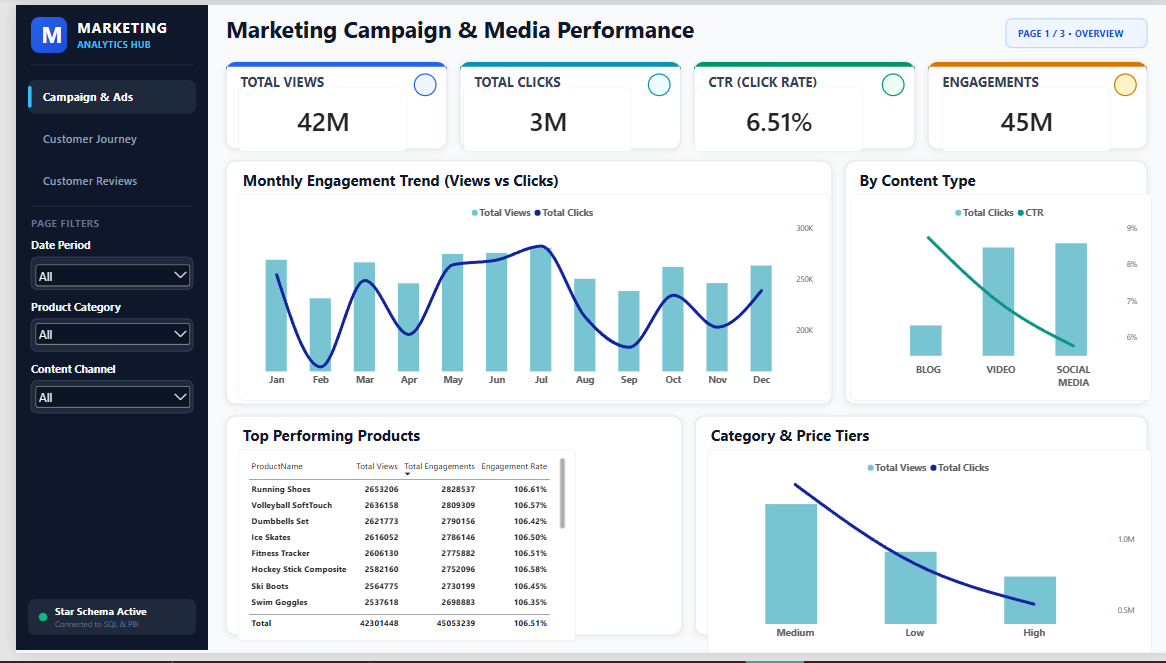

What the dashboard file says about the page in this screenshot:
{"tool":"powerbi","page":{"name":"Campaign & Ads","canvas":[1920,1080],"ordinal":0},"visuals":[{"type":"cardVisual","fields":{"Data":["Key Measure.Total Views"]},"box":[370,137.5,282.5,107.5],"z":0},{"type":"cardVisual","fields":{"Data":["Key Measure.Total Clicks"]},"box":[745,137.5,282.5,107.5],"z":1000},{"type":"cardVisual","fields":{"Data":["Key Measure.CTR"]},"box":[1130,137.5,282.5,107.5],"z":2000},{"type":"cardVisual","fields":{"Data":["Key Measure.Total Engagements"]},"box":[1542.5,137.5,282.5,107.5],"z":3000},{"type":"slicer","fields":{"Values":["Dim_products.ProductName"]},"box":[27.5,525,267.5,55],"z":4000},{"type":"slicer","fields":{"Values":["Fact_engagement_data.ContentType"]},"box":[27.5,630,267.5,57.5],"z":5000},{"type":"lineStackedColumnComboChart","fields":{"Category":["dCalendar.Month Name"],"Y":["Key Measure.Total Views"],"Y2":["Key Measure.Total Clicks"]},"box":[370.9,314.7,985.7,344],"z":6000},{"type":"lineClusteredColumnComboChart","fields":{"Category":["Fact_engagement_data.ContentType"],"Y":["Key Measure.Total Clicks"],"Y2":["Key Measure.CTR"]},"box":[1390.7,314.7,502.6,344],"z":7000},{"type":"lineClusteredColumnComboChart","fields":{"Category":["Dim_products.ProductName"],"Y":["Key Measure.Total Views"],"Y2":["Key Measure.Total Clicks"]},"box":[370,740,740,320],"z":8000},{"type":"slicer","fields":{"Values":["dCalendar.Date.Variation.Date Hierarchy.Year","dCalendar.Month Name"]},"box":[26.8,427,268.4,61],"z":9000},{"type":"lineStackedColumnComboChart","fields":{"Category":["Dim_products.PriceCategory"],"Y":["Key Measure.Total Views"],"Y2":["Key Measure.Total Clicks"]},"box":[1152.5,740,740,340],"z":10000},{"type":"actionButton","box":[26.8,190.3,268.4,53.7],"z":10001},{"type":"actionButton","box":[26.8,261.1,268.4,53.7],"z":10002}]}

Visuals, with their boxes on the page's 1920x1080 design canvas (x1, y1, x2, y2). These are canvas units, not pixel positions in the 1166x663 screenshot, which may show the page scaled, cropped or inside an application window:
cardVisual - Key Measure.Total Views: bbox=(370, 138, 652, 245)
cardVisual - Key Measure.Total Clicks: bbox=(745, 138, 1028, 245)
cardVisual - Key Measure.CTR: bbox=(1130, 138, 1412, 245)
cardVisual - Key Measure.Total Engagements: bbox=(1542, 138, 1825, 245)
slicer - Dim_products.ProductName: bbox=(28, 525, 295, 580)
slicer - Fact_engagement_data.ContentType: bbox=(28, 630, 295, 688)
lineStackedColumnComboChart - dCalendar.Month Name x Key Measure.Total Views: bbox=(371, 315, 1357, 659)
lineClusteredColumnComboChart - Fact_engagement_data.ContentType x Key Measure.Total Clicks: bbox=(1391, 315, 1893, 659)
lineClusteredColumnComboChart - Dim_products.ProductName x Key Measure.Total Views: bbox=(370, 740, 1110, 1060)
slicer - dCalendar.Date.Variation.Date Hierarchy.Year x dCalendar.Month Name: bbox=(27, 427, 295, 488)
lineStackedColumnComboChart - Dim_products.PriceCategory x Key Measure.Total Views: bbox=(1152, 740, 1892, 1080)
actionButton: bbox=(27, 190, 295, 244)
actionButton: bbox=(27, 261, 295, 315)
